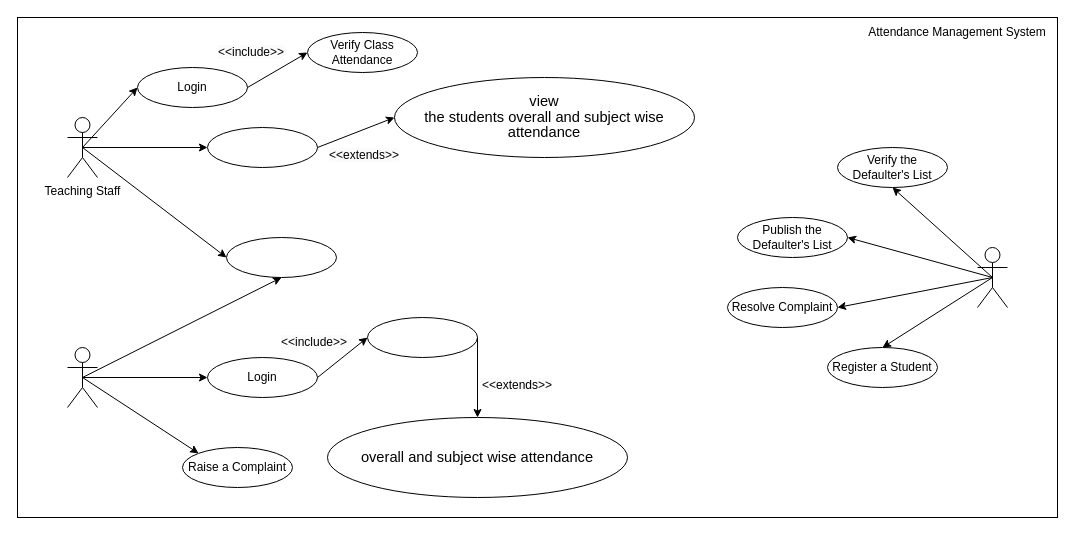
Image size: 1075x535. Some labels were removed from this diagram. The shapes that lost their labels are listed below. From the top down, each one's centre as x and y in pixels, then its label:
At [262,147]: "View Student's Attendance".
At [281,257]: "View Defaulter's List".
At [992,277]: "Office Staff".
At [422,337]: "View the Attendance".
At [82,377]: "Student".
